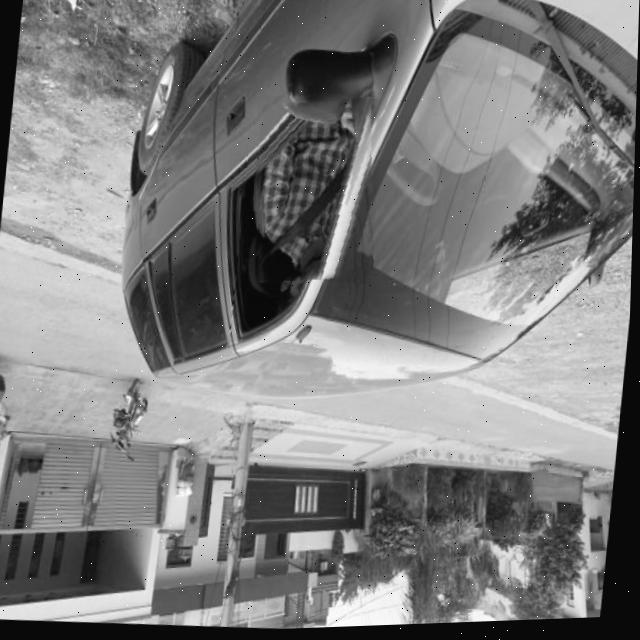seatbelt: (245, 92, 386, 288)
